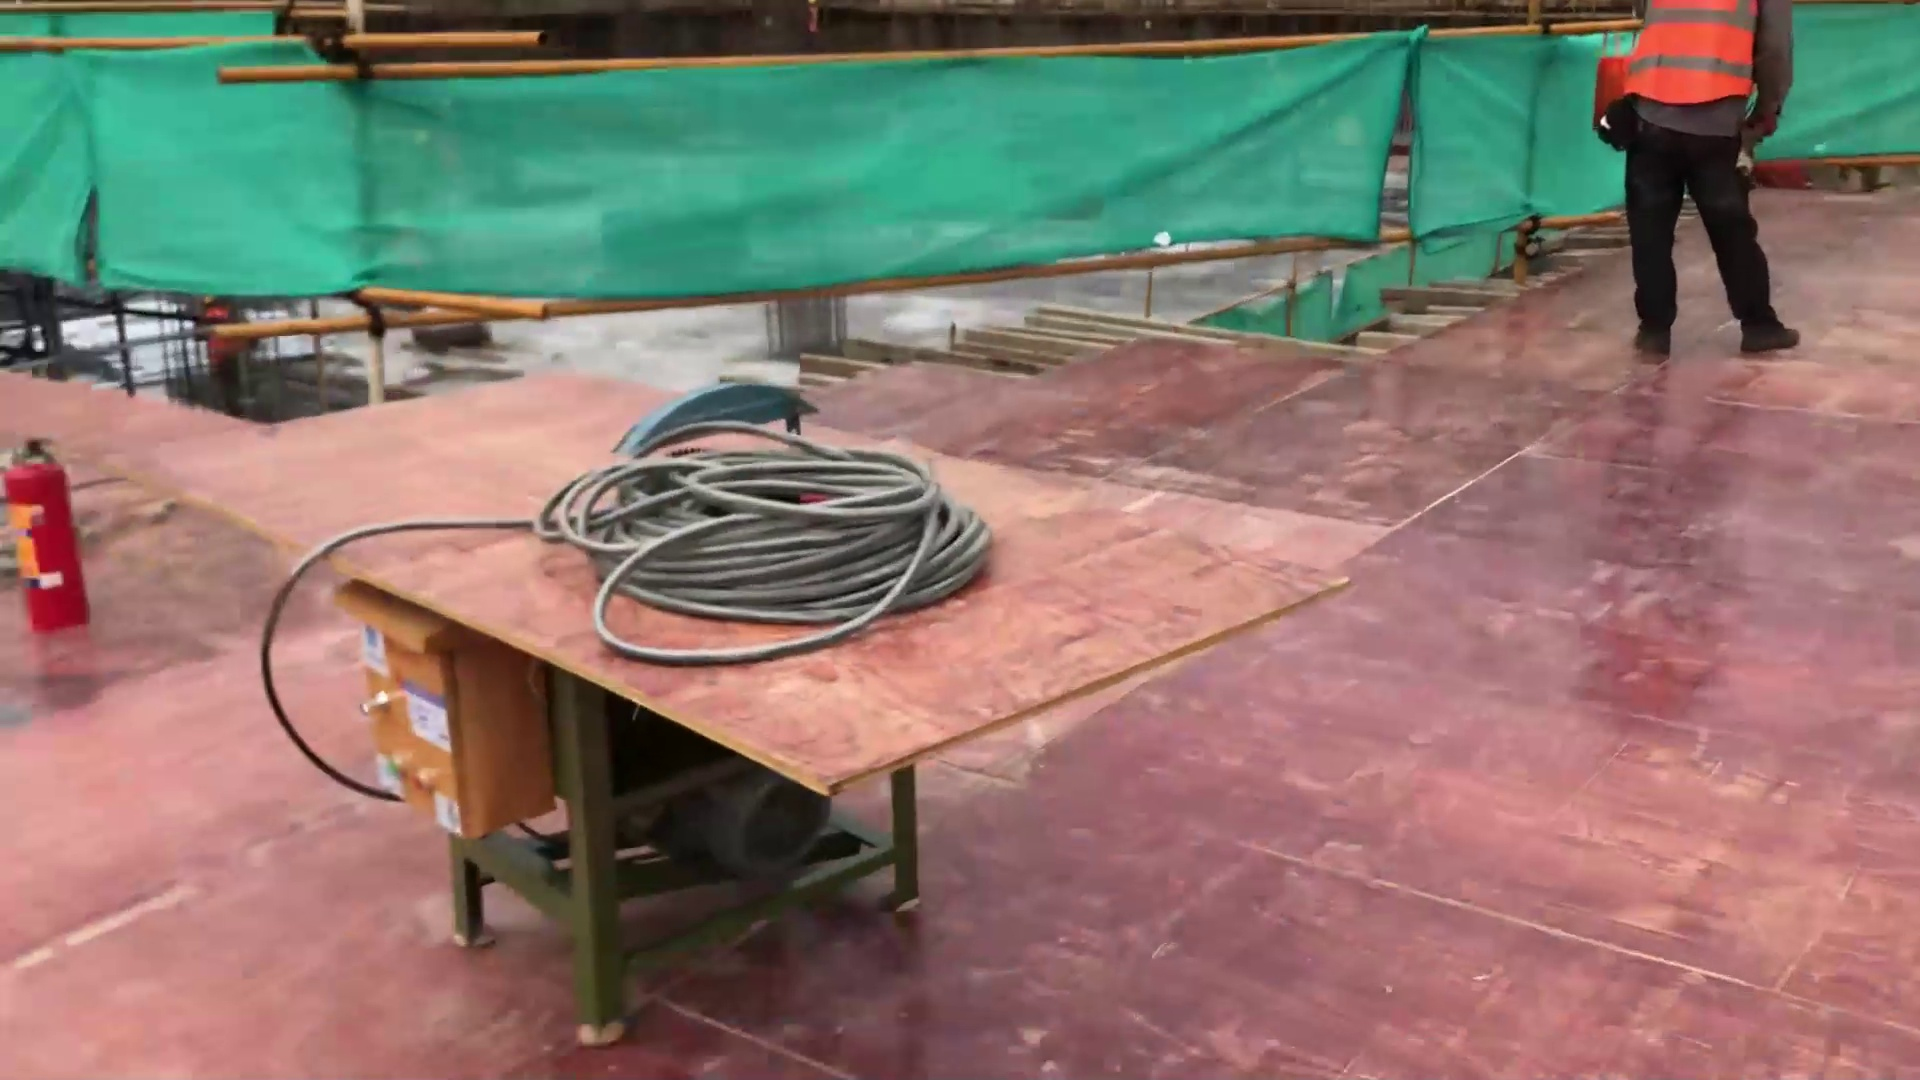cutter: (163, 348, 1374, 1020)
ebox: (328, 583, 561, 847)
person: (1596, 1, 1808, 367)
vest: (1636, 1, 1760, 113)
